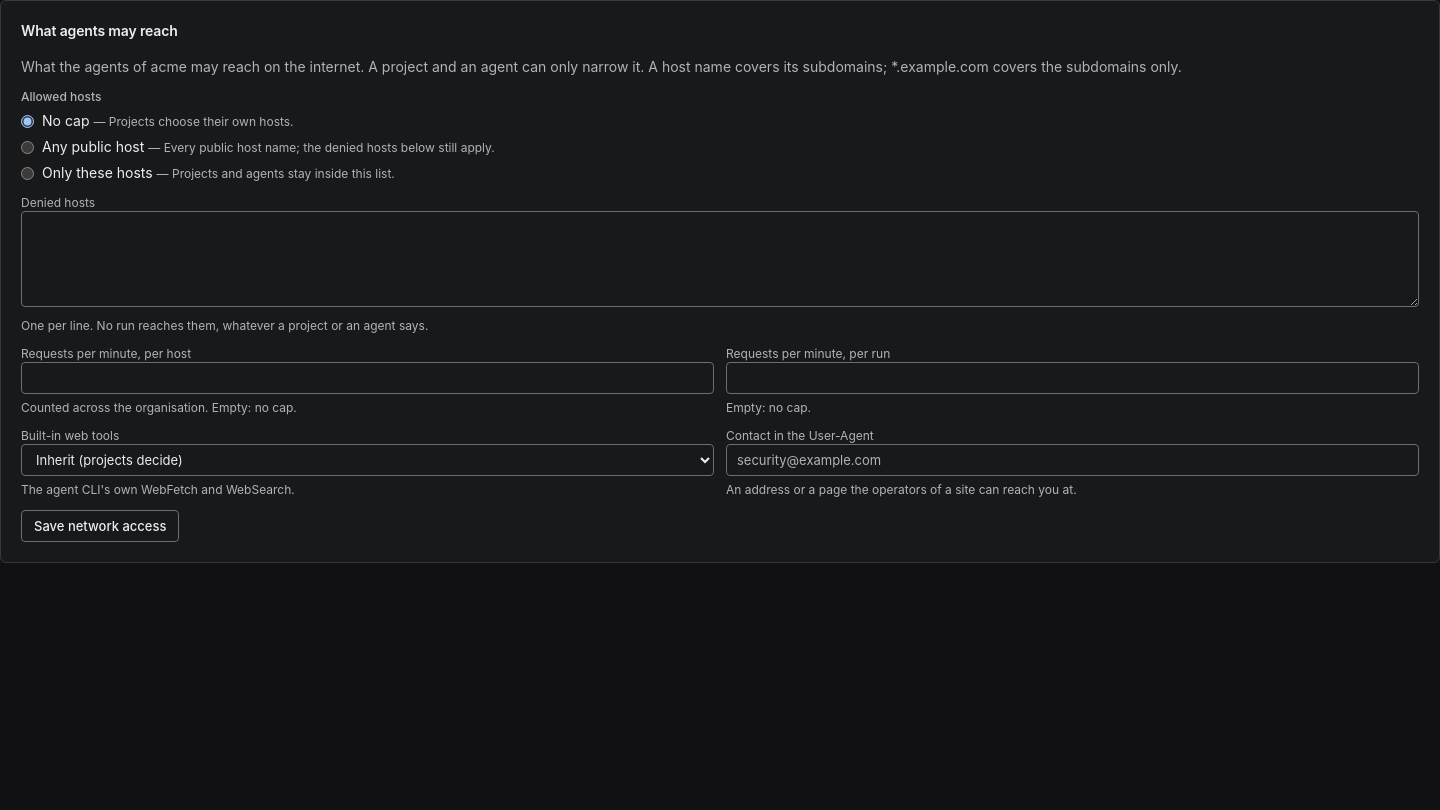
the organisation's network access (ADR 0070) › shows the server's refusal
Click the button "Save network access": [100, 526] box [21,510,179,542]
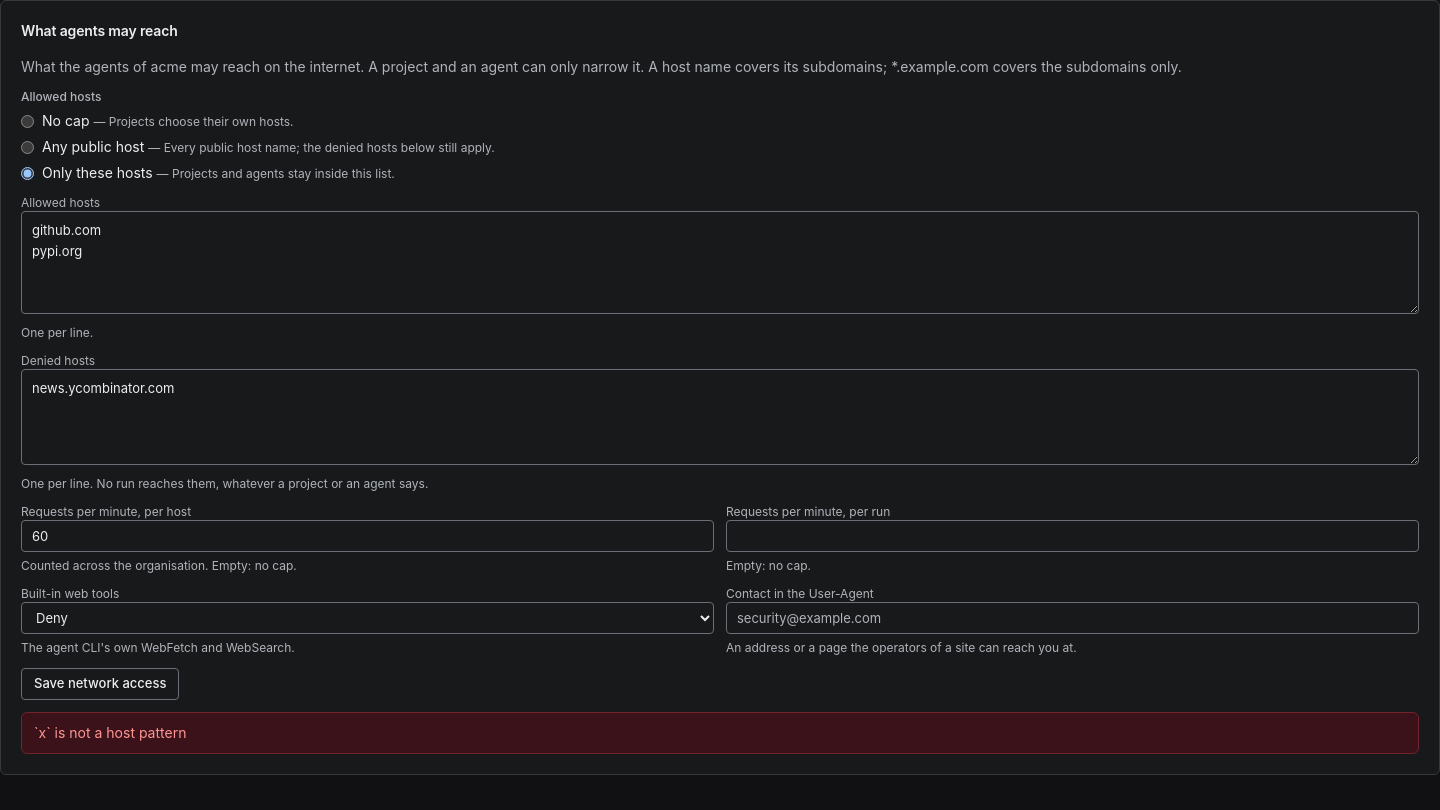
Now the text "`x` is not a host pattern" is shown, box [34,724,186,740]
